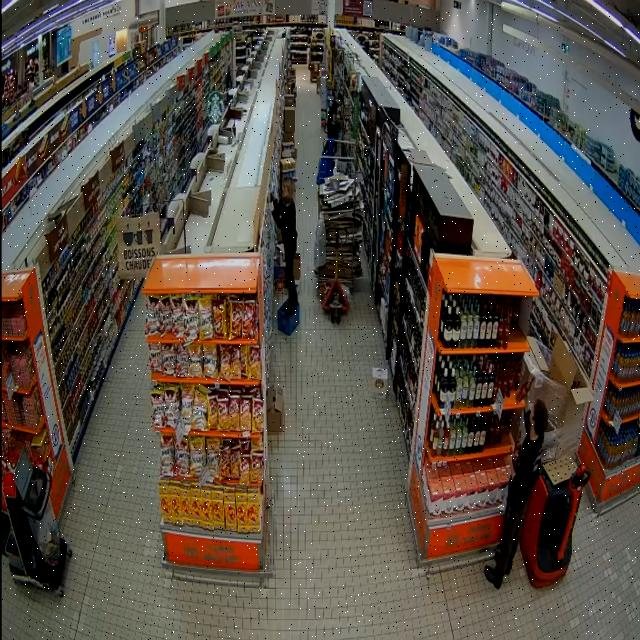article: (515, 376, 536, 404), (510, 447, 519, 472), (514, 432, 521, 456)
hands: (524, 391, 529, 401)
person: (484, 381, 548, 588), (273, 179, 297, 311)
